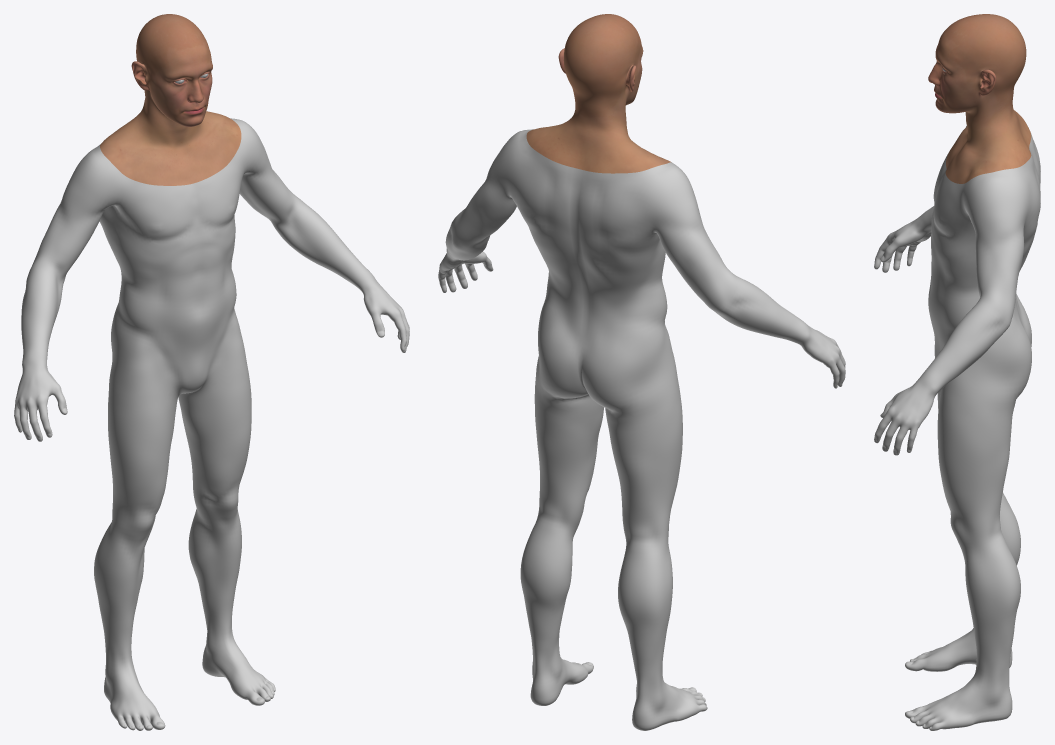
Rendered from human_body.fbx.
3 renders of one model, left to right at view 1: azimuth 30°, elevation 25°; view 2: azimuth 150°, elevation 25°; view 3: azimuth 270°, elevation 25°, orthographic. The views are drawn at different scales.
Parts seen in each view (by area): view 1: Male body reference; view 2: Male body reference; view 3: Male body reference.
Part boxes in pixels (x1,y1,x2,y2): Male body reference: (14, 14, 409, 730); Male body reference: (438, 14, 845, 730); Male body reference: (874, 14, 1040, 730).
Bounding box in the file's own units: 106 × 174 × 38.9.
